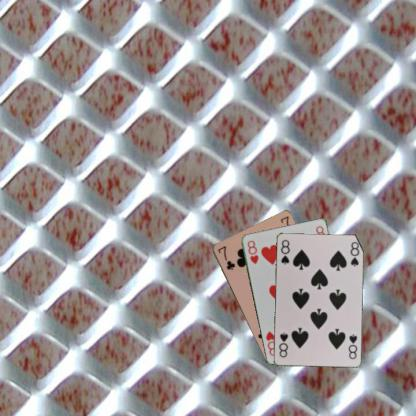7c: (215, 243, 236, 271)
8h: (244, 238, 260, 265)
8s: (278, 237, 291, 265), (346, 332, 358, 360)
